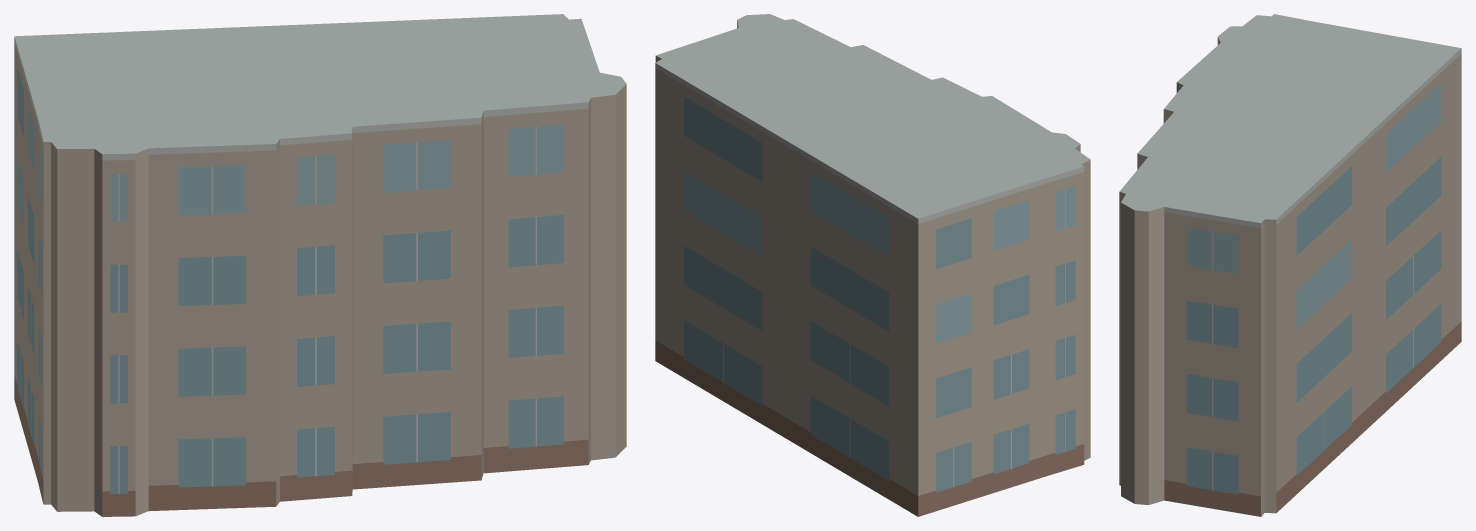
File: survey-upis-32484849.glb
3 views of the same model, side by side, from view 1: azimuth 30°, elevation 25°; view 2: azimuth 150°, elevation 25°; view 3: azimuth 270°, elevation 25° (orthographic). The views are drawn at different scales.
Parts seen in each view (by area): view 1: survey-upis-32484849.tmp; view 2: survey-upis-32484849.tmp; view 3: survey-upis-32484849.tmp.
Boxes of the visible parts, x1,y1,x2,y2 form: survey-upis-32484849.tmp: (14,14,626,516); survey-upis-32484849.tmp: (655,14,1090,516); survey-upis-32484849.tmp: (1119,14,1461,516).
Size of the model in its own units: 21.18 by 13.85 by 14.64.
